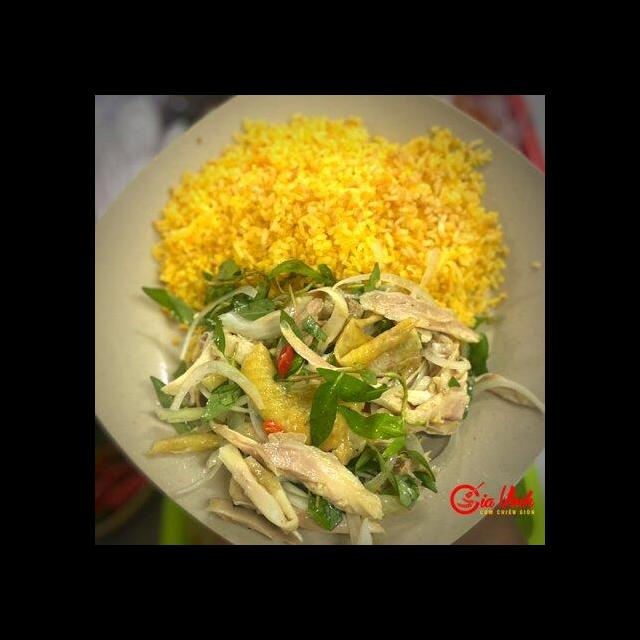com: (147, 107, 515, 339)
com ga: (97, 131, 545, 534)
rau ram: (304, 363, 442, 512), (143, 258, 277, 358), (145, 360, 246, 437), (265, 255, 398, 305)
thit ga: (205, 414, 392, 545), (332, 311, 474, 441), (237, 340, 375, 470), (355, 287, 486, 348)
